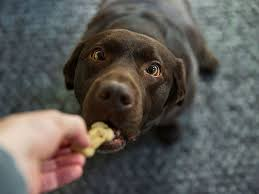dog: (49, 21, 222, 171)
